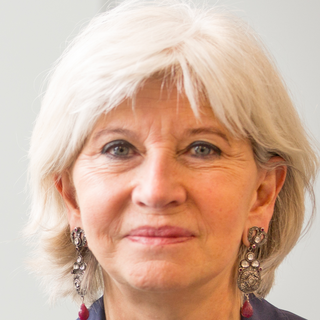eye: (179, 138, 228, 163), (94, 136, 141, 161)
